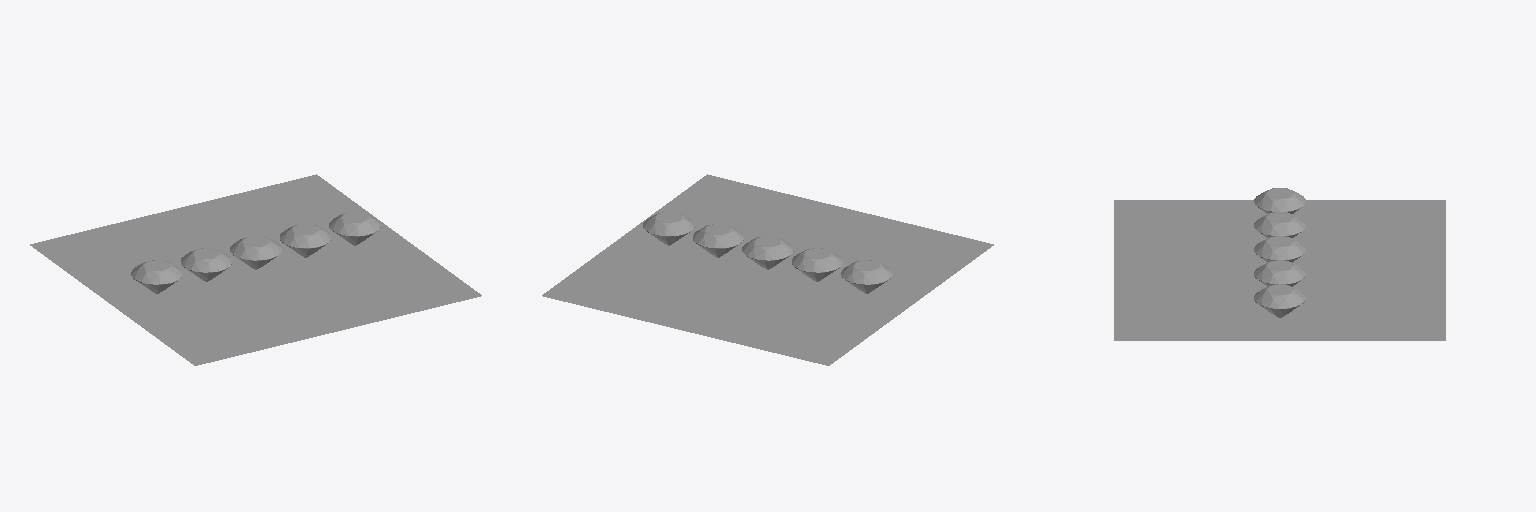
The model's file is diamonds1.obj.
3 views of the same model, side by side, from view 1: azimuth 30°, elevation 25°; view 2: azimuth 150°, elevation 25°; view 3: azimuth 270°, elevation 25° (orthographic).
Visible parts, largest first — view 1: Plane, diamondwhite_dmesh, diamondpink_dmesh.004, diamondred_dmesh.002, diamondblue_dmesh.001, diamondgreen_dmesh.003; view 2: Plane, diamondwhite_dmesh, diamondpink_dmesh.004, diamondred_dmesh.002, diamondblue_dmesh.001, diamondgreen_dmesh.003; view 3: Plane, diamondgreen_dmesh.003, diamondblue_dmesh.001, diamondwhite_dmesh, diamondred_dmesh.002, diamondpink_dmesh.004.
Boxes of the visible parts, <box> form: Plane: <box>30,174,481,365</box>; diamondwhite_dmesh: <box>230,236,281,269</box>; diamondpink_dmesh.004: <box>131,260,182,293</box>; diamondred_dmesh.002: <box>181,248,231,281</box>; diamondblue_dmesh.001: <box>280,224,330,257</box>; diamondgreen_dmesh.003: <box>329,212,380,245</box>; Plane: <box>542,174,993,365</box>; diamondwhite_dmesh: <box>742,236,793,269</box>; diamondpink_dmesh.004: <box>841,260,892,293</box>; diamondred_dmesh.002: <box>792,248,842,281</box>; diamondblue_dmesh.001: <box>693,224,743,257</box>; diamondgreen_dmesh.003: <box>643,212,694,245</box>; Plane: <box>1114,200,1445,340</box>; diamondgreen_dmesh.003: <box>1254,284,1305,317</box>; diamondblue_dmesh.001: <box>1254,260,1305,286</box>; diamondwhite_dmesh: <box>1254,236,1305,262</box>; diamondred_dmesh.002: <box>1254,212,1305,237</box>; diamondpink_dmesh.004: <box>1254,188,1305,213</box>.
Size of the model in its own units: 12.79 by 1.22 by 12.79.